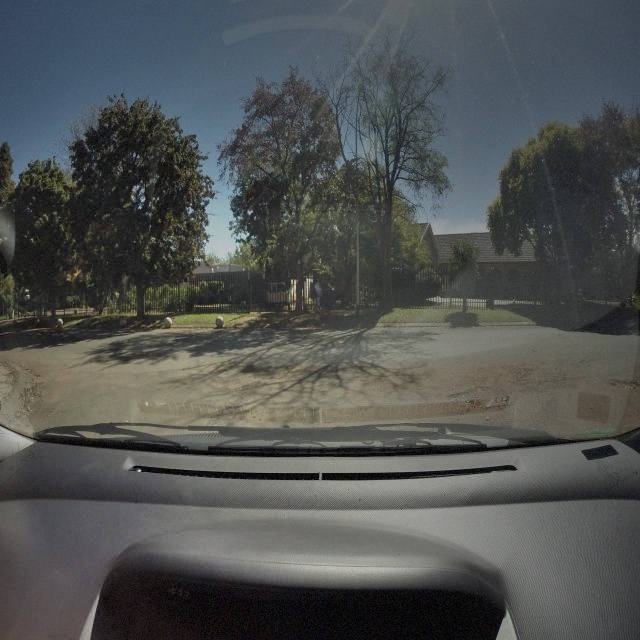pothole: (446, 382, 510, 412), (610, 376, 639, 392)
